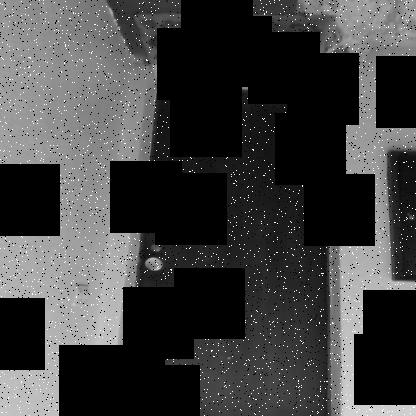Porte: (108, 64, 341, 416)
